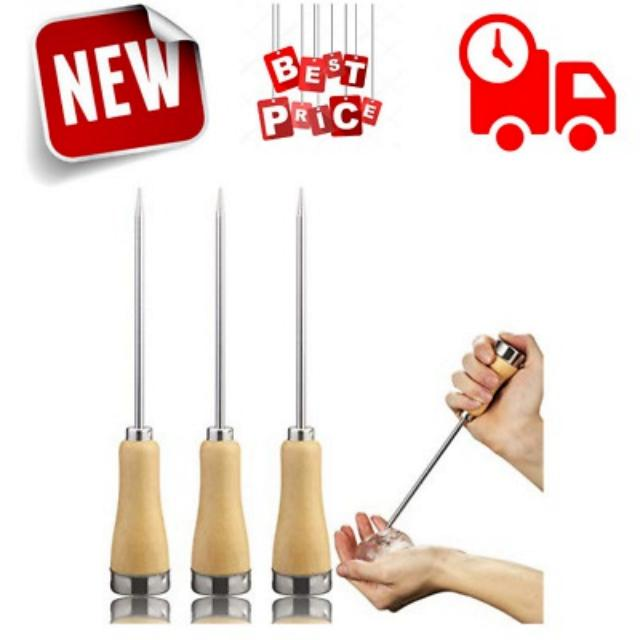ice pick: (106, 159, 172, 597), (185, 187, 252, 596), (384, 339, 526, 529), (270, 182, 332, 596)
